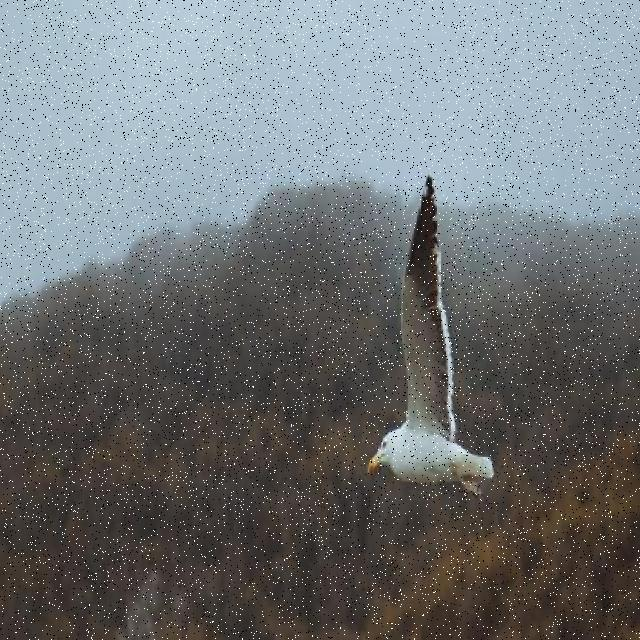bird: (368, 172, 494, 496)
